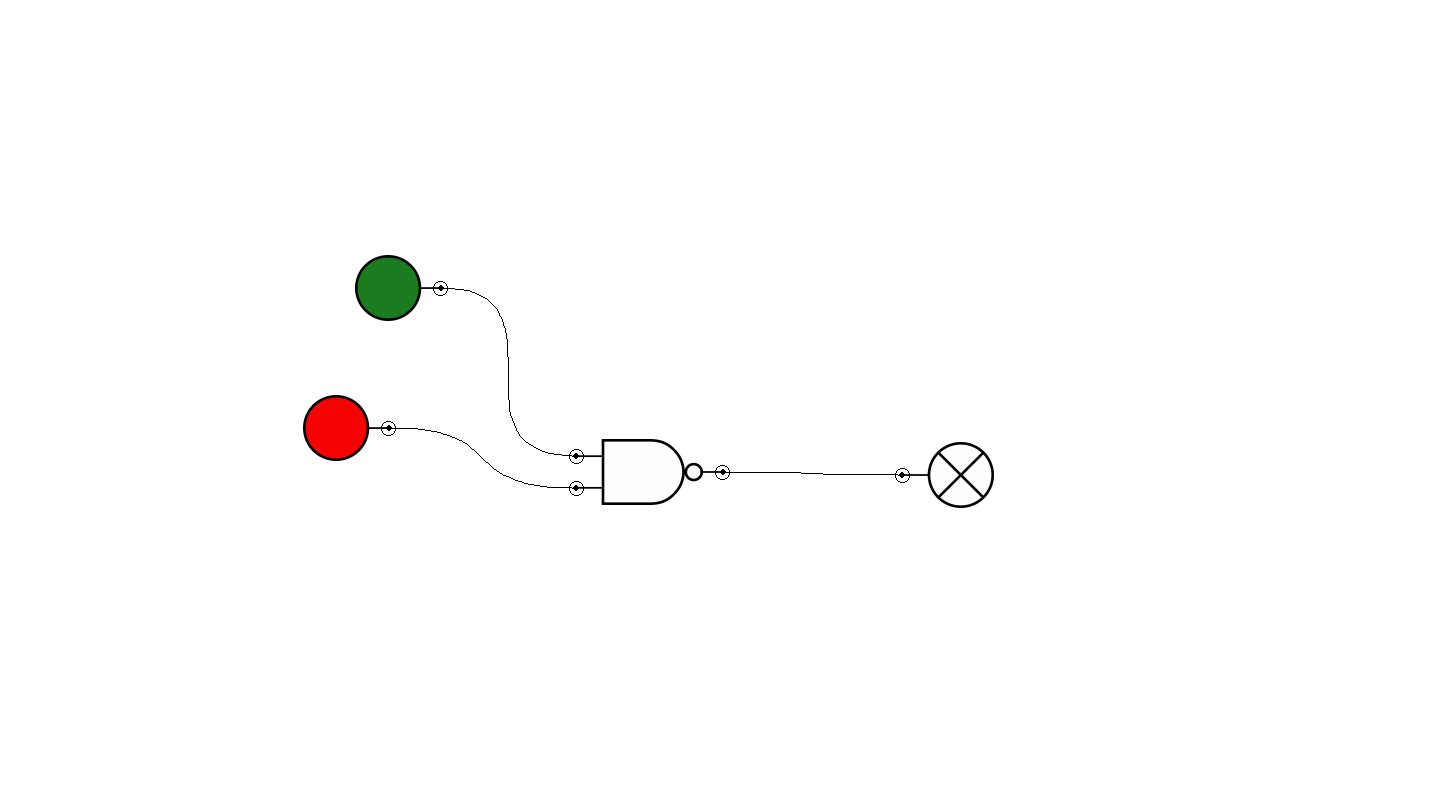bulb: (895, 442, 994, 508)
nand: (569, 439, 730, 505)
switch_False: (303, 395, 396, 461)
switch_True: (355, 255, 448, 321)
